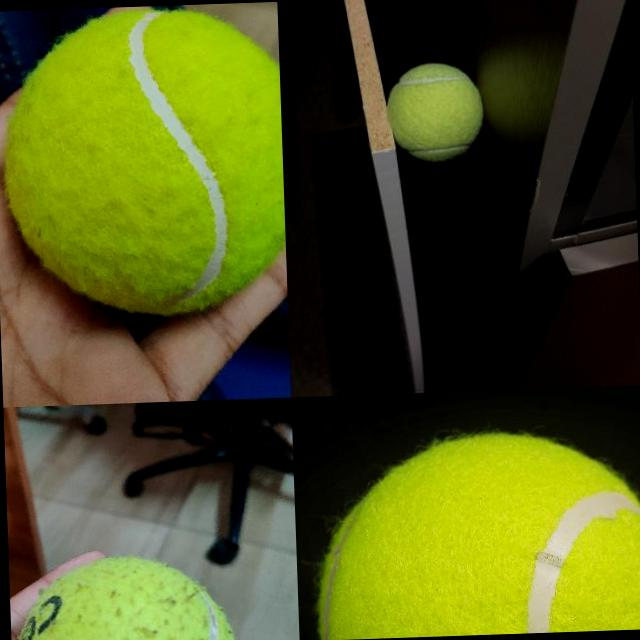Tennis Ball: (0, 3, 287, 321), (308, 426, 640, 639), (10, 551, 239, 640), (384, 60, 486, 164)
